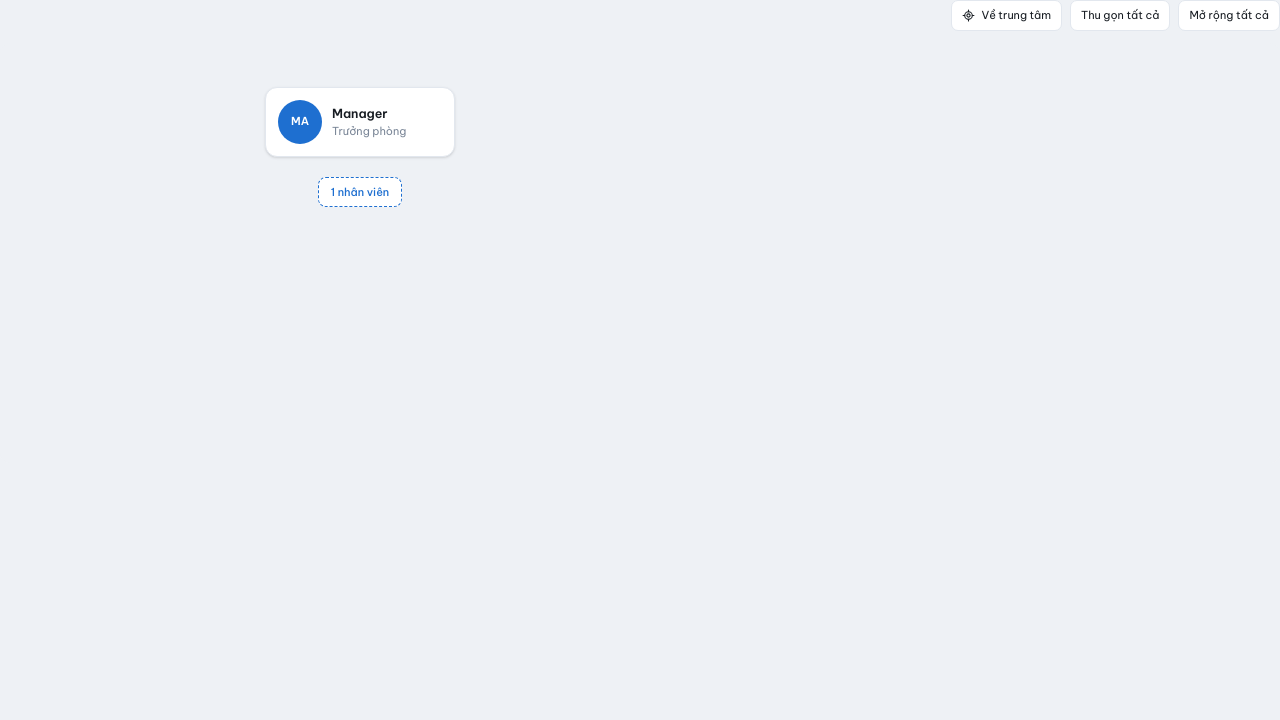
it: DepartmentManagementChart › closes the group panel before opening an employee profile
Click the button with aria-label "1 nhân viên do Manager quản lý" at (360, 192), box [318,176,402,207]
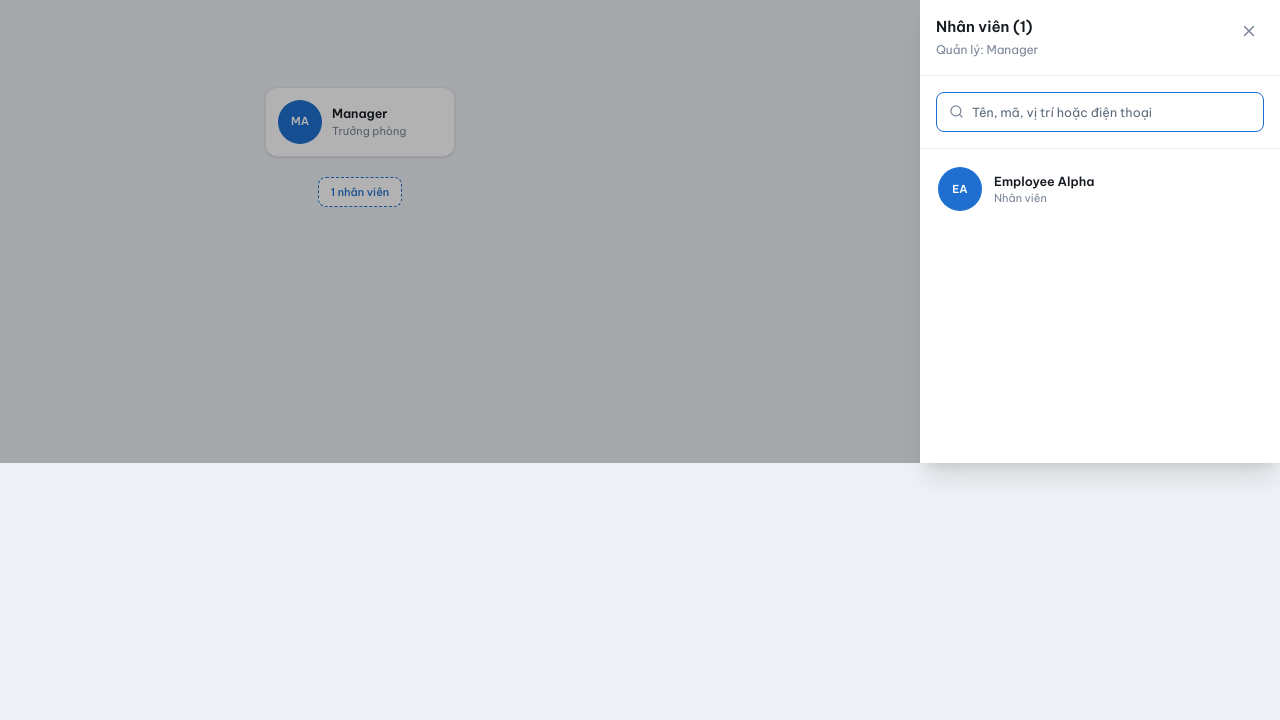
Click the button "EA Employee Alpha Nhân viên" at (960, 189), box [928,157,1272,221]
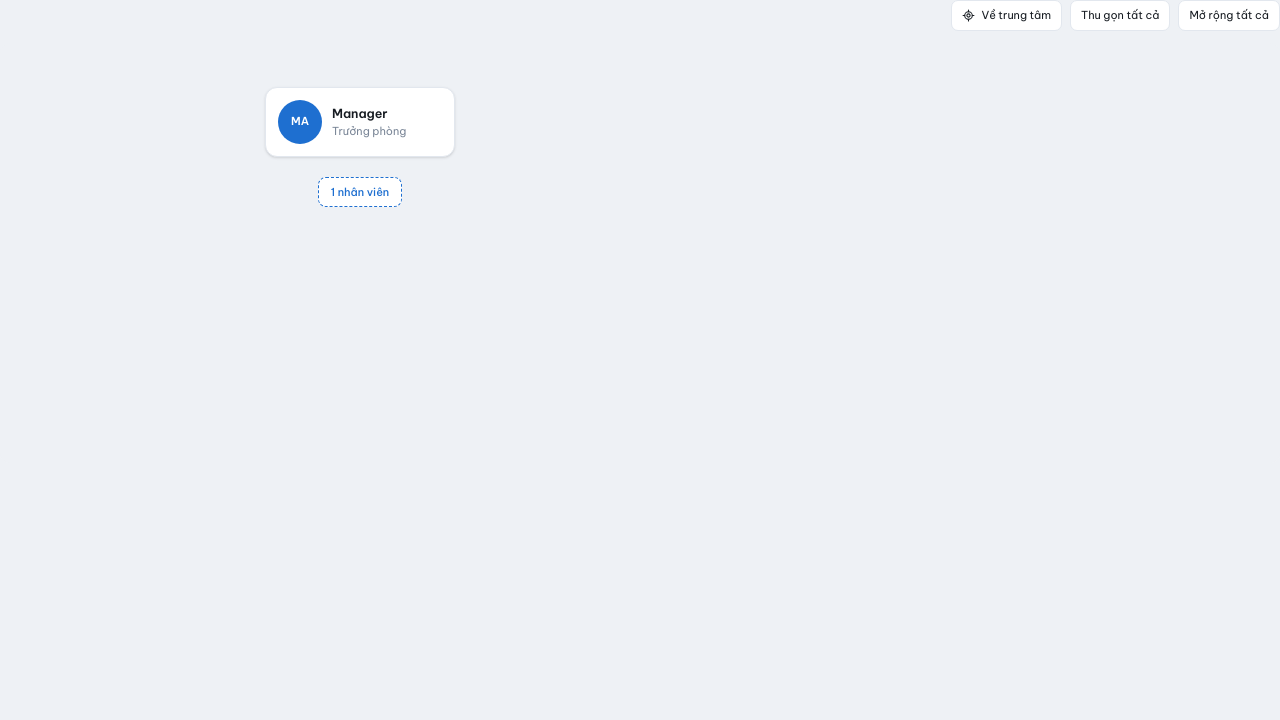
Now the dialog is gone
